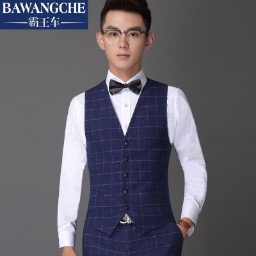face: (94, 1, 157, 70)
